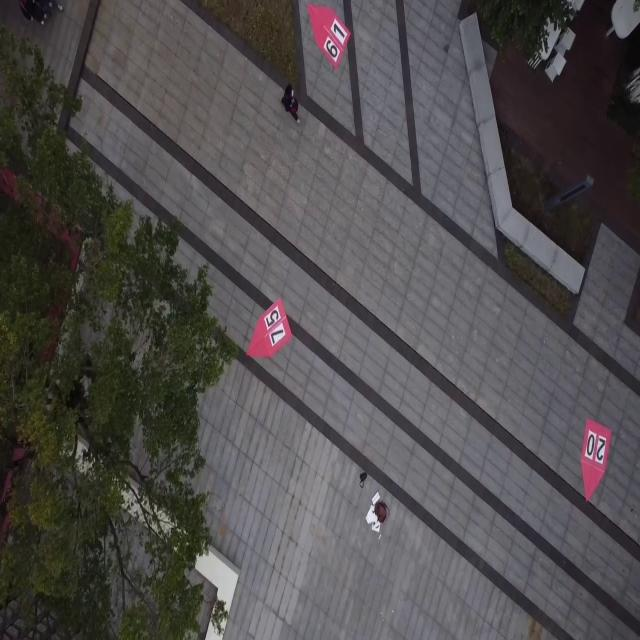-sign-: (307, 2, 351, 70), (246, 296, 292, 360), (580, 419, 612, 503)
